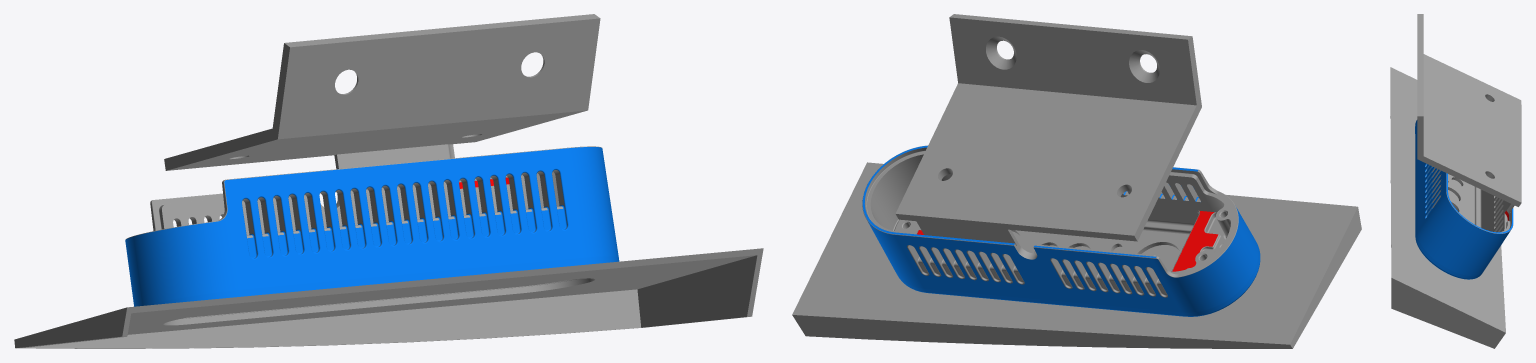
File: camera_right_link.obj
The picture shows the model from 3 angles, left to right: view 1: azimuth 30°, elevation 25°; view 2: azimuth 150°, elevation 25°; view 3: azimuth 270°, elevation 25°; orthographic projection. The views are drawn at different scales.
Visible parts, largest first — view 1: camera_right; view 2: camera_right; view 3: camera_right.
Part boxes in pixels (x1=…): camera_right: x1=14, y1=14, x2=763, y2=348; camera_right: x1=792, y1=14, x2=1361, y2=348; camera_right: x1=1390, y1=14, x2=1521, y2=348.
Bounding box in the file's own units: 0.1246 × 0.0804 × 0.0422.
